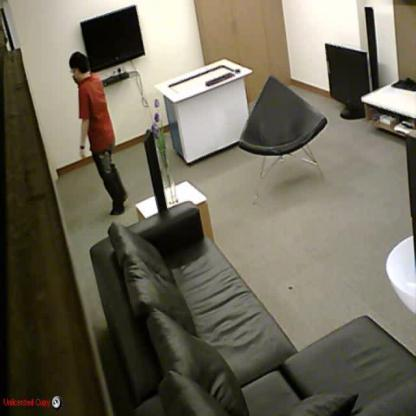Person: (68, 53, 128, 217)
